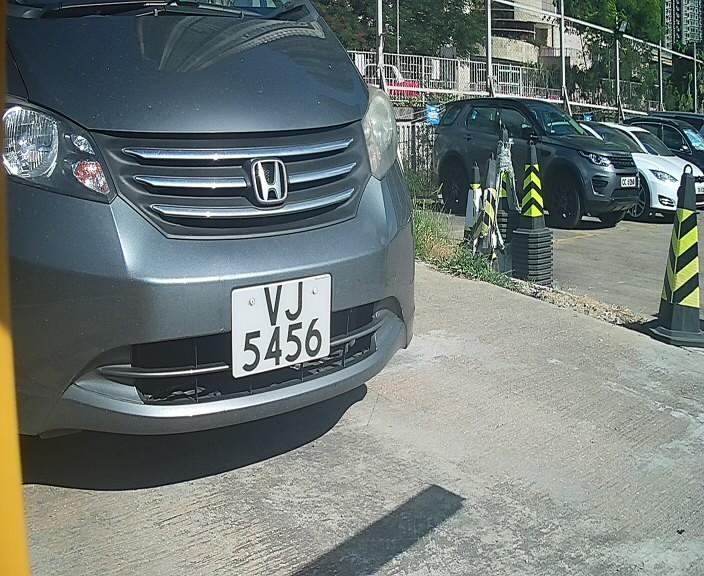privatecar: (1, 8, 447, 463)
